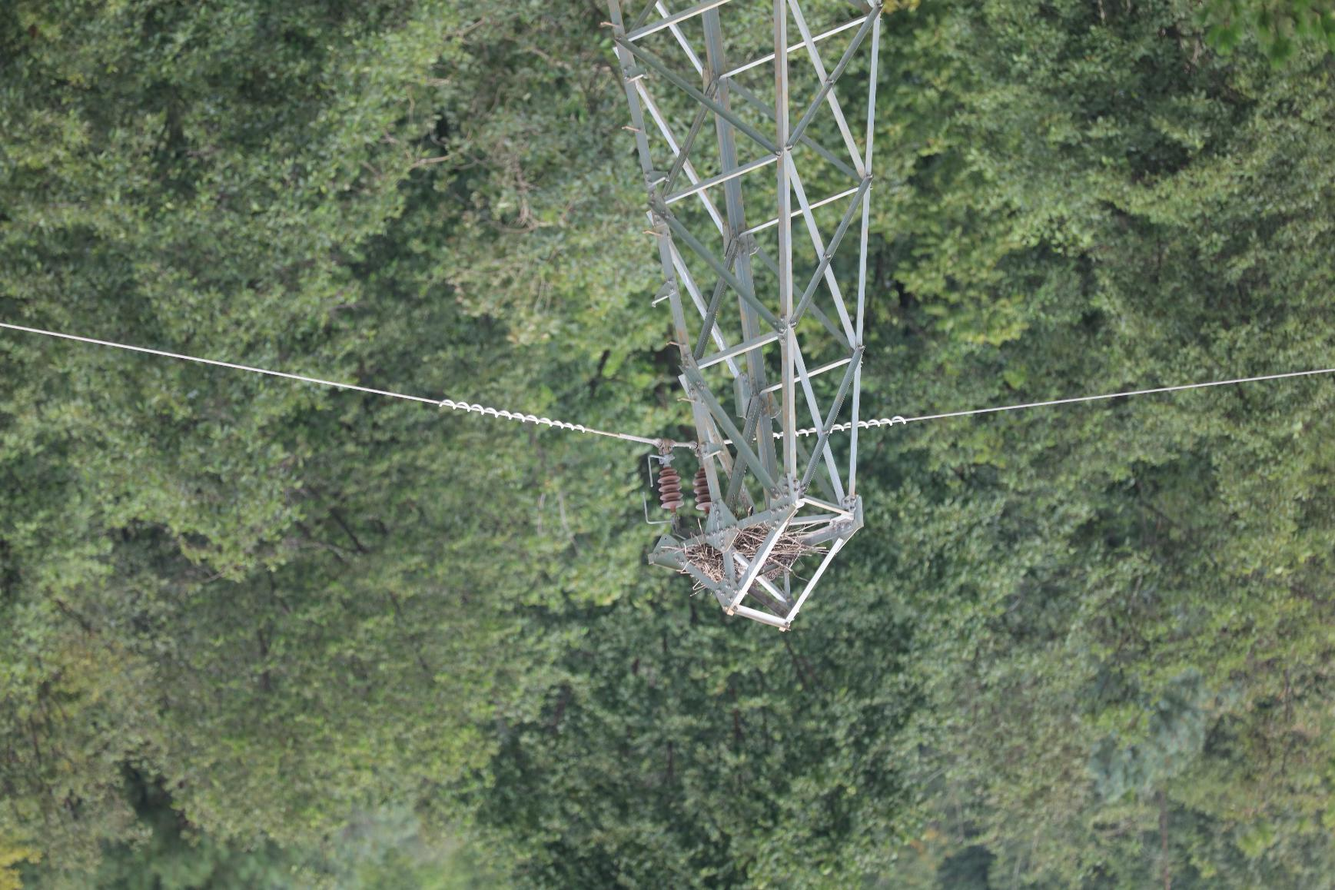nest: (680, 519, 812, 590)
